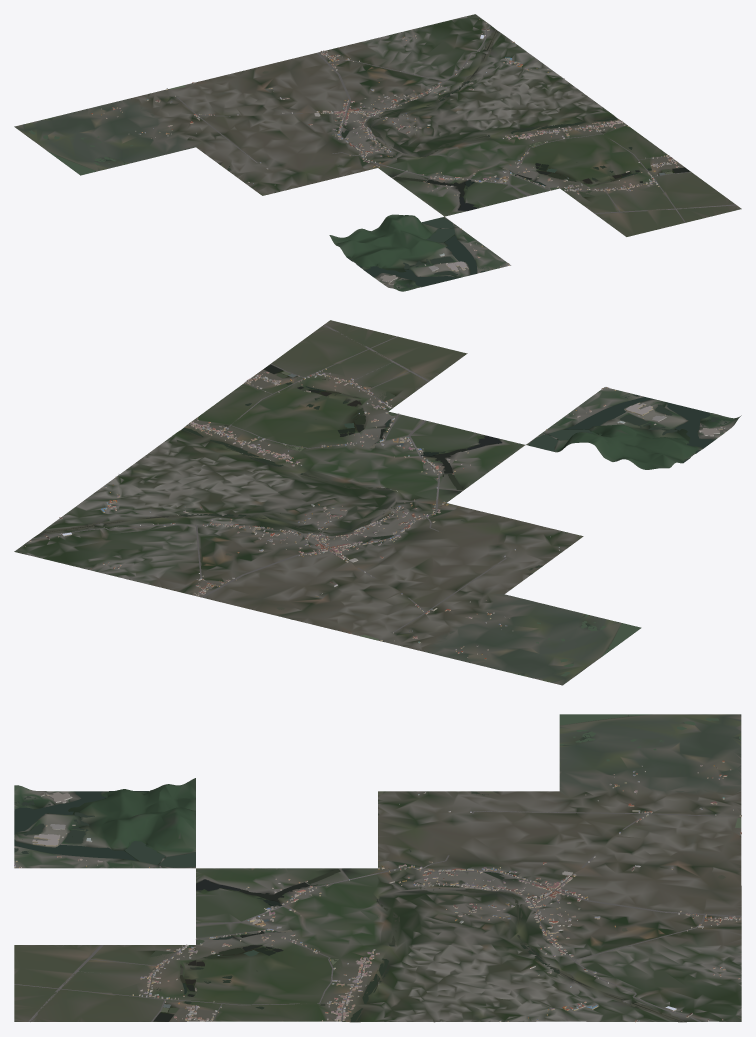
3 views of the same model, one above another, from view 1: azimuth 30°, elevation 25°; view 2: azimuth 150°, elevation 25°; view 3: azimuth 270°, elevation 25° (orthographic). The views are drawn at different scales.
Parts seen in each view (by area): view 1: ground, water, buildings, roads; view 2: ground, water, buildings, roads; view 3: ground, water, buildings, roads.
Boxes of the visible parts, box(x1,y1,x2,y2) form: ground: box(14, 14, 741, 291); water: box(29, 30, 689, 289); buildings: box(90, 19, 679, 284); roads: box(168, 25, 736, 226); ground: box(14, 320, 741, 685); water: box(39, 365, 727, 676); buildings: box(25, 368, 724, 659); roads: box(32, 324, 544, 633); ground: box(14, 714, 741, 1022); water: box(14, 714, 741, 1022); buildings: box(14, 760, 741, 1022); roads: box(14, 811, 741, 1021).
Bounding box in the file's own units: 5619 × 198 × 5613.
